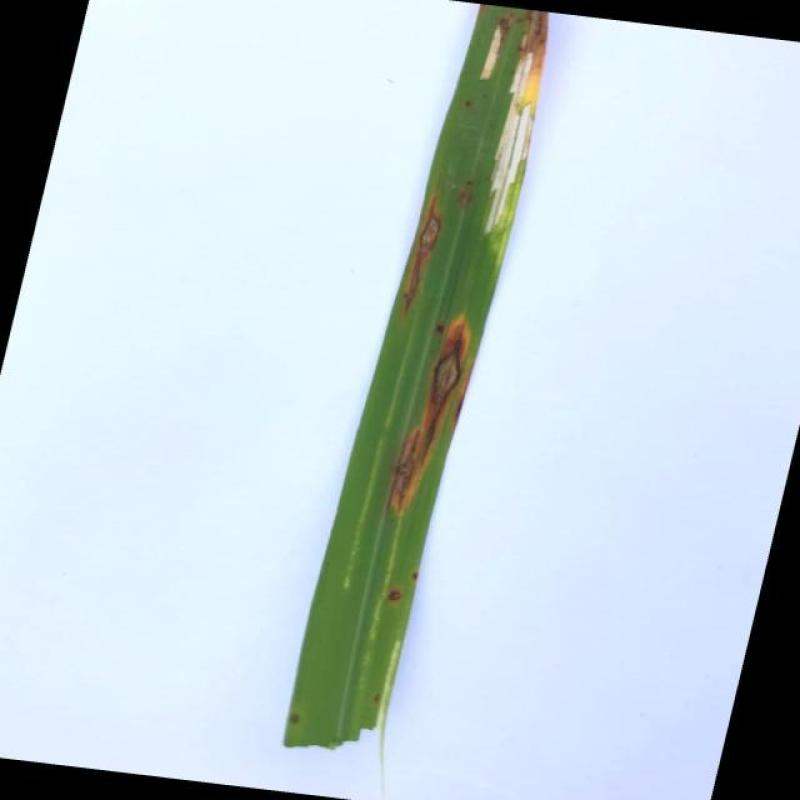Leaf_Blast: (423, 316, 478, 420), (397, 195, 445, 311), (386, 420, 442, 515), (456, 188, 474, 210), (385, 590, 401, 605)
